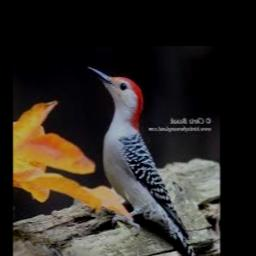Woodpecker: (87, 65, 202, 256)
